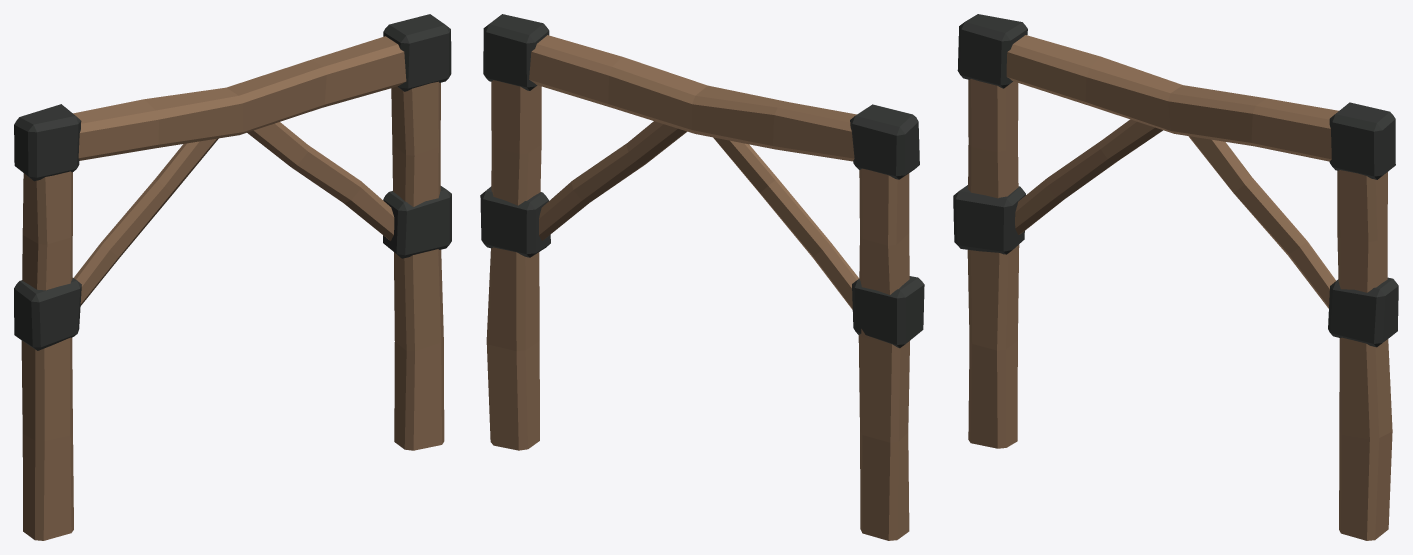
Rendered from wooden gate.fbx.
The picture shows the model from 3 angles, left to right: view 1: azimuth 30°, elevation 25°; view 2: azimuth 150°, elevation 25°; view 3: azimuth 330°, elevation 25°; orthographic projection.
Visible parts, largest first — view 1: wooden gate_LOD0; view 2: wooden gate_LOD0; view 3: wooden gate_LOD0.
Part boxes in pixels (left/top/right/bottom): wooden gate_LOD0: left=14, top=14, right=451, bottom=540; wooden gate_LOD0: left=480, top=14, right=924, bottom=540; wooden gate_LOD0: left=953, top=14, right=1398, bottom=540.
Size of the model in its own units: 3.86 by 3.62 by 0.4005.
